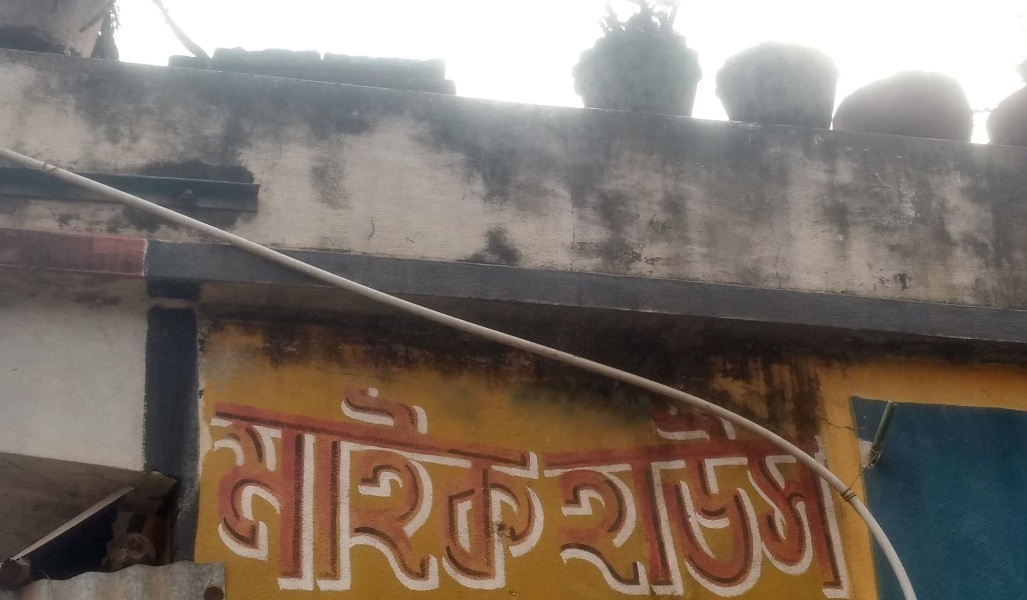text: (209, 370, 224, 598), (225, 370, 240, 598), (241, 370, 256, 598), (257, 370, 272, 598), (273, 370, 288, 598), (289, 370, 304, 598), (305, 370, 320, 598), (321, 370, 336, 598), (337, 370, 352, 598), (353, 370, 368, 598), (369, 370, 384, 598), (385, 370, 400, 598), (401, 370, 416, 598), (417, 370, 432, 598), (433, 370, 448, 598), (449, 370, 464, 598), (465, 370, 480, 598), (481, 370, 496, 598), (497, 370, 512, 598), (513, 370, 528, 598), (529, 370, 544, 598), (194, 370, 208, 598), (529, 396, 544, 597), (545, 396, 560, 597), (561, 396, 576, 597), (577, 396, 592, 597), (593, 396, 608, 597), (609, 396, 624, 597), (625, 396, 640, 597), (641, 396, 656, 597), (657, 396, 672, 597), (673, 396, 688, 597), (689, 396, 704, 597), (705, 396, 720, 597), (721, 396, 736, 597), (737, 396, 752, 597), (753, 396, 768, 597), (769, 396, 784, 597), (785, 396, 800, 597), (801, 396, 816, 597), (817, 396, 832, 597), (833, 396, 848, 597), (849, 396, 864, 597), (545, 370, 556, 598), (865, 396, 866, 597)
